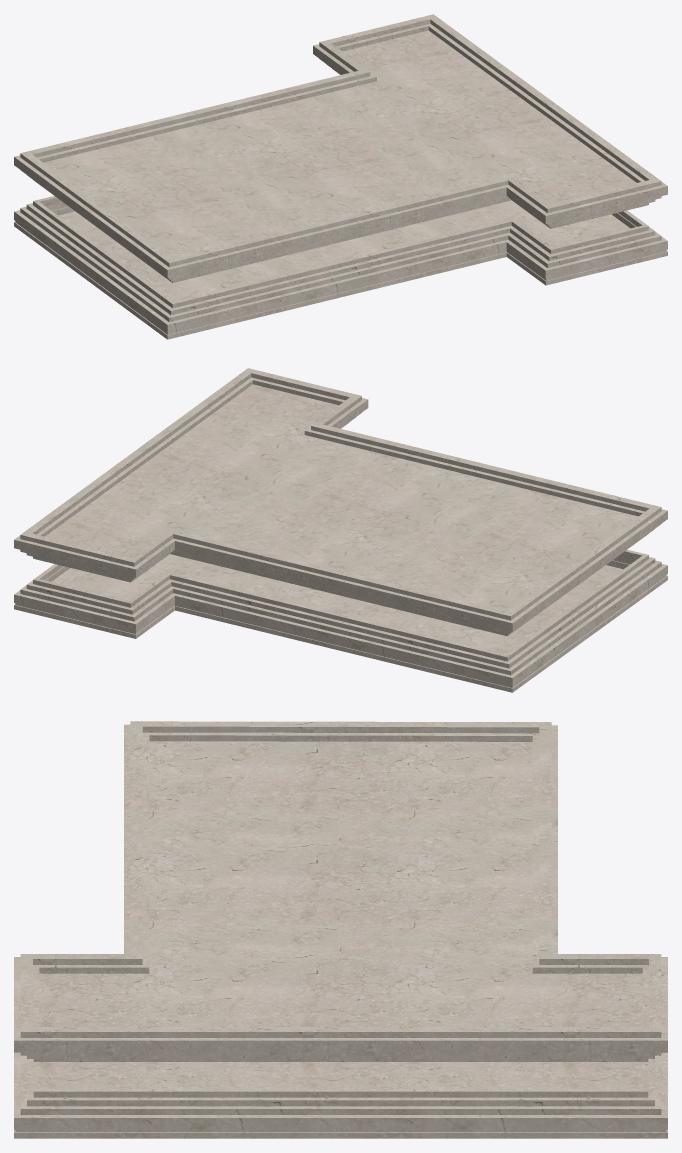
File: marble_tile_246.fbx
3 renders of one model, top to bottom at view 1: azimuth 30°, elevation 25°; view 2: azimuth 150°, elevation 25°; view 3: azimuth 270°, elevation 25°, orthographic. The views are drawn at different scales.
Visible parts, largest first — view 1: marble_tile_246; view 2: marble_tile_246; view 3: marble_tile_246.
Boxes of the visible parts, <box> form: marble_tile_246: <box>14,14,667,339</box>; marble_tile_246: <box>14,368,667,692</box>; marble_tile_246: <box>14,721,667,1138</box>.
Bounding box in the file's own units: 999 × 153 × 873.
